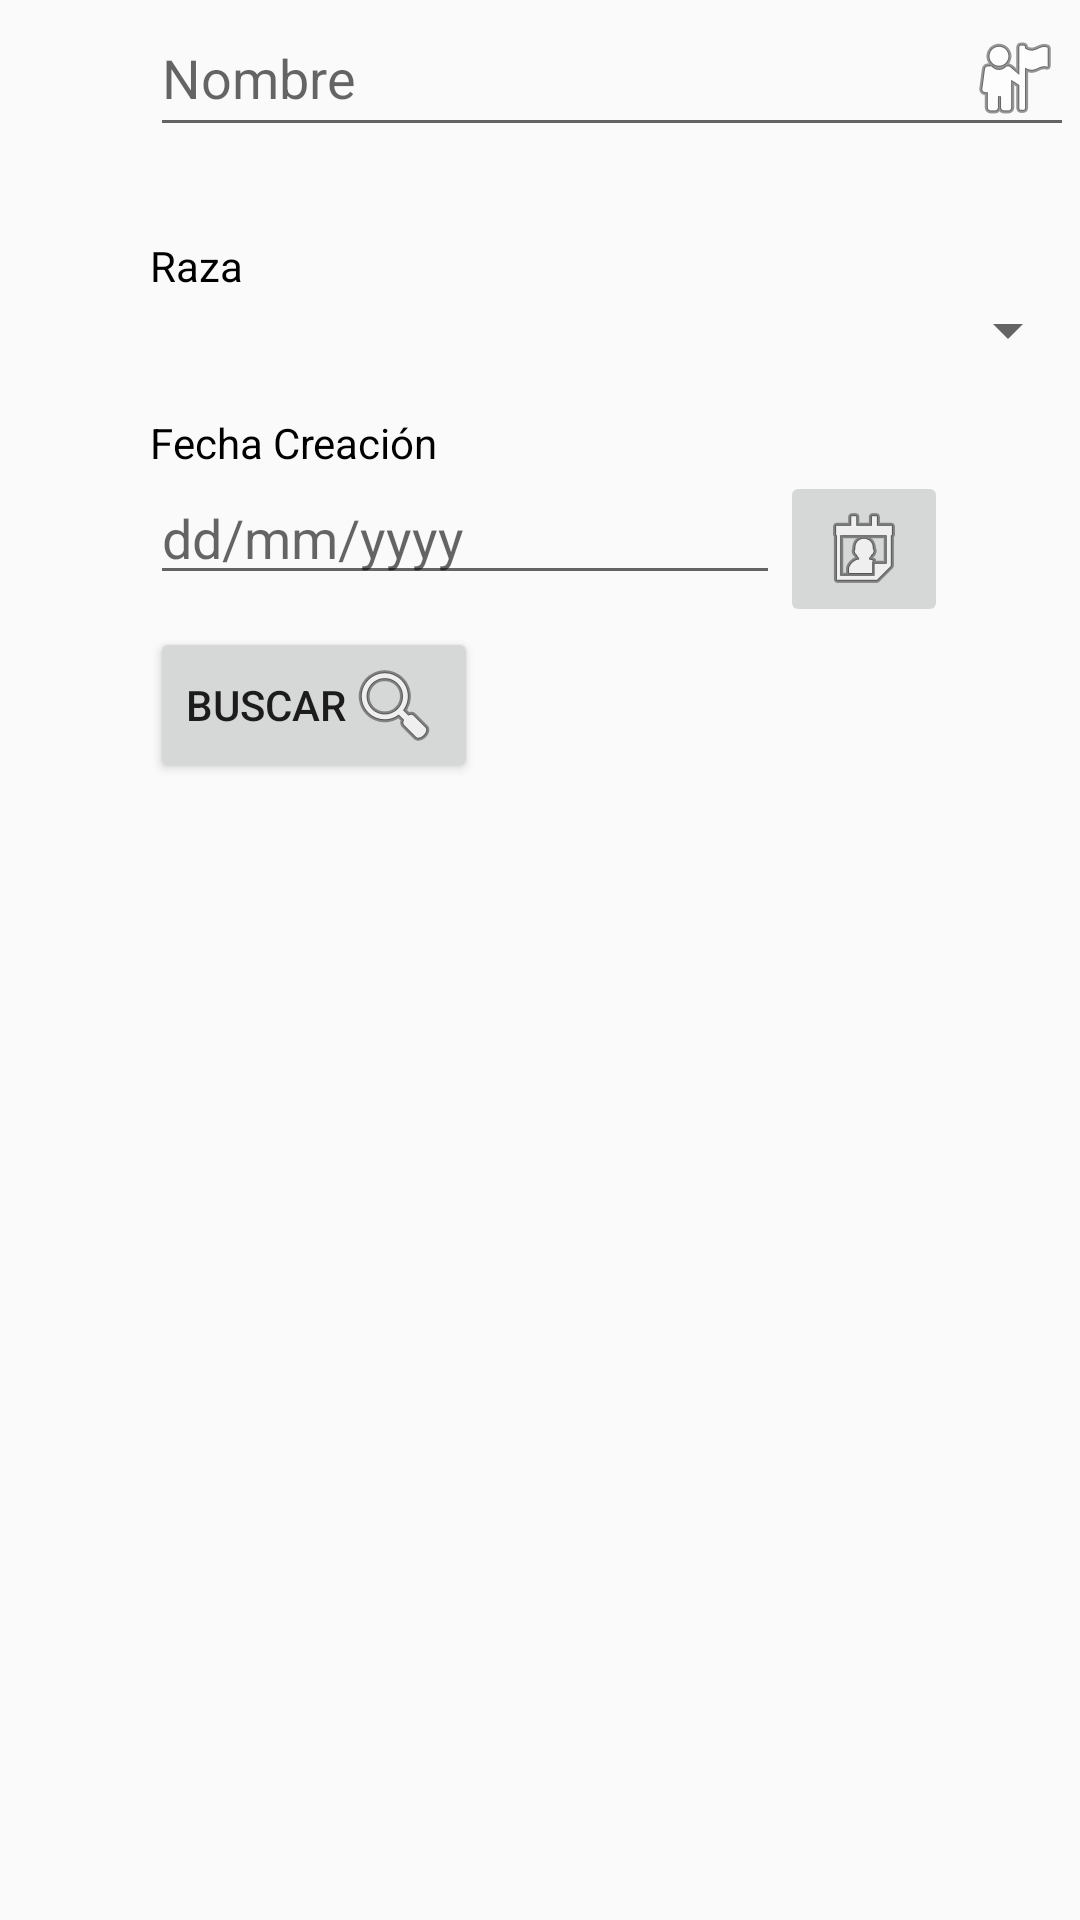

Screen size 1080 x 1920. Icon name, then its box in pixels as region(x1, y1, x2, y2):
calendar: region(792, 489, 936, 609)
